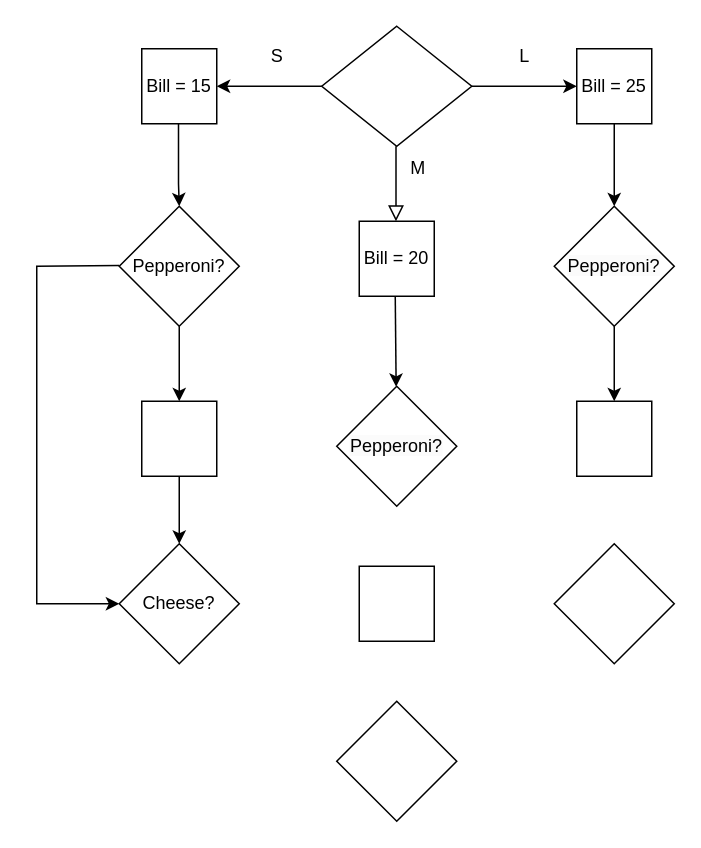
Some shapes in this 701 by 848 pixel diagram are drawn without their labels. The shapes that lost their labels are listed below. From the top down, each one's centre as x and y in pixels, then its label:
the point at 396,85: Size of Pizza?
the point at 178,438: Bill = 17
the point at 613,438: Bill = 28
the point at 396,603: Bill = 23
